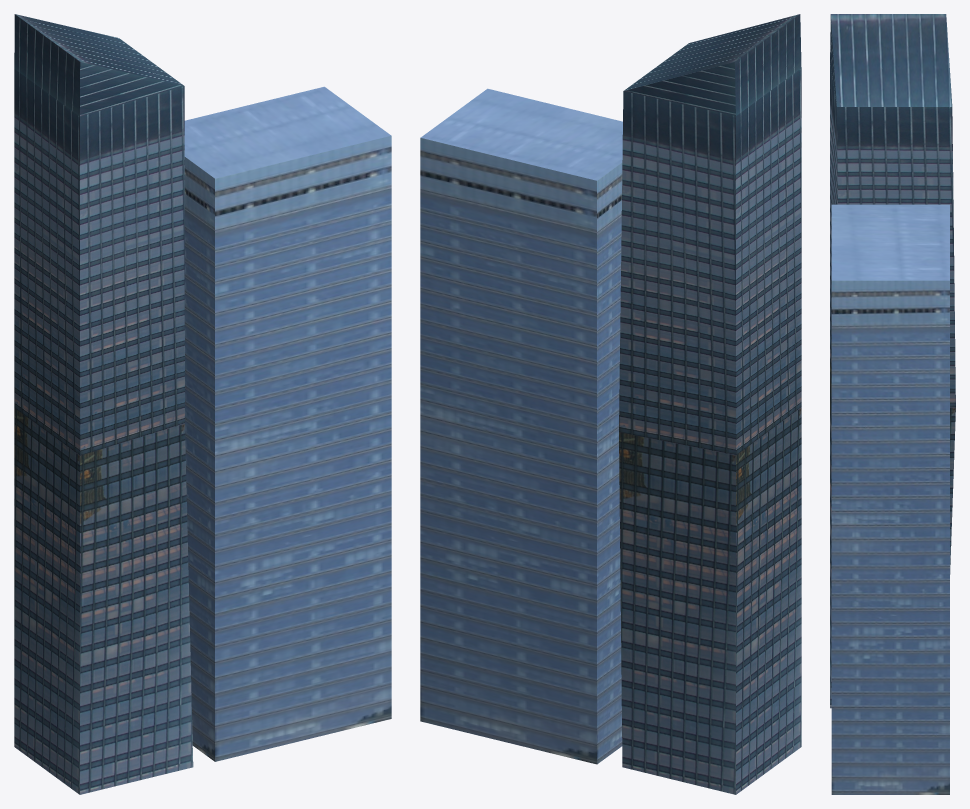
File: 2_new_york_building.glb
3 renders of one model, left to right at view 1: azimuth 30°, elevation 25°; view 2: azimuth 150°, elevation 25°; view 3: azimuth 270°, elevation 25°, orthographic. The views are drawn at different scales.
Visible parts, largest first — view 1: g5_12; view 2: g5_12; view 3: g5_12.
Part boxes in pixels (left/top/right/bottom): g5_12: left=14, top=14, right=391, bottom=794; g5_12: left=420, top=14, right=801, bottom=794; g5_12: left=830, top=14, right=955, bottom=794.
Size of the model in its own units: 1.58 by 3.53 by 0.6238.
Materials: 2 (2 with a texture image).
